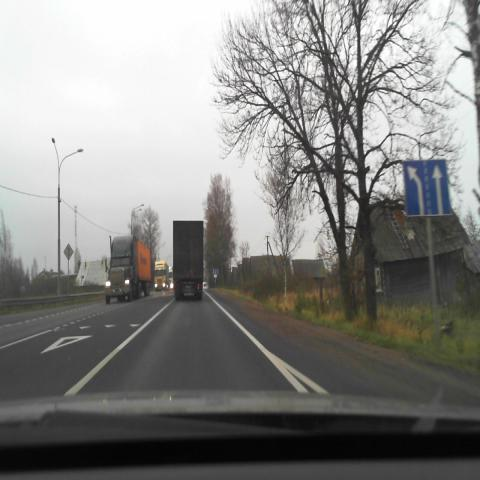5_15_2_2: (404, 160, 450, 216)
